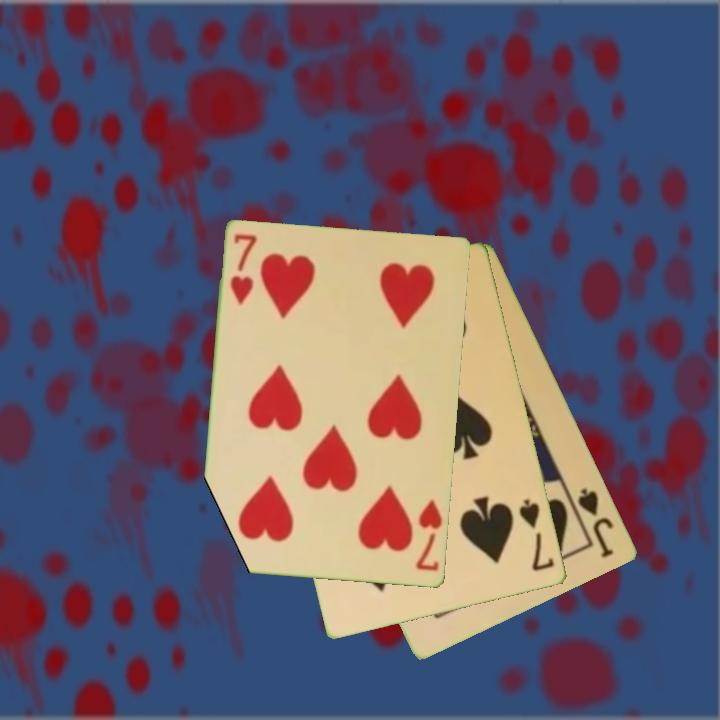7h: (412, 496, 445, 575), (227, 231, 260, 308)
7s: (516, 495, 558, 575)
Js: (574, 484, 617, 562)
